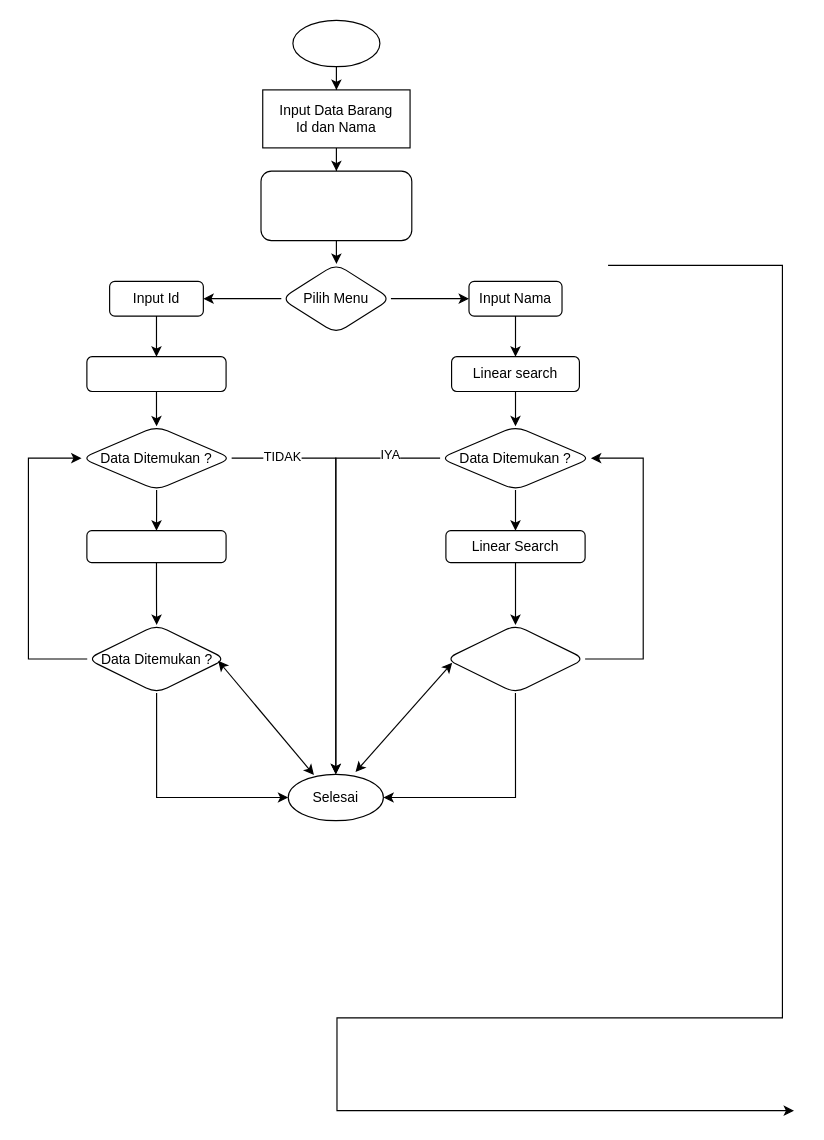
Some shapes in this 824 by 1140 pixel diagram are drawn without their labels. The shapes that lost their labels are listed below. From the top down, each one's centre as x and y in pixels, then its label:
pixel 336 43: Start
pixel 336 205: Tampilkan Menu 1. Cari Id 2. Cari Nama
pixel 156 374: Binary search
pixel 156 546: inary search
pixel 515 658: Data Tidak Ditemuakan
